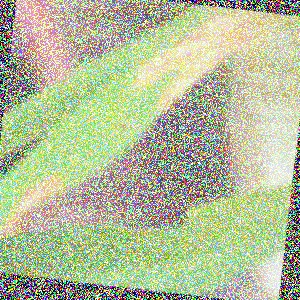Brown_Spot: (130, 6, 272, 120), (0, 157, 76, 241)
